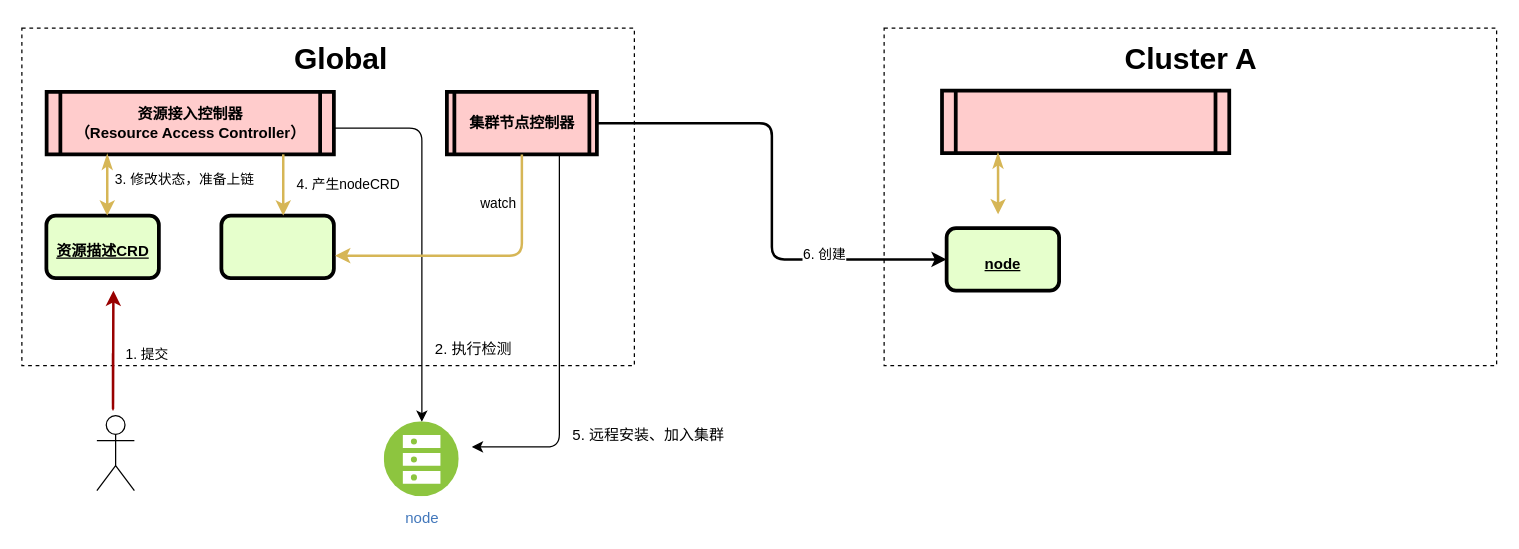
Some shapes in this 1519 by 549 pixel diagram are drawn without their labels. Each missing label, with the box of its shape:
Actor: (96, 414, 134, 491)
节点CRD: (219, 213, 335, 279)
